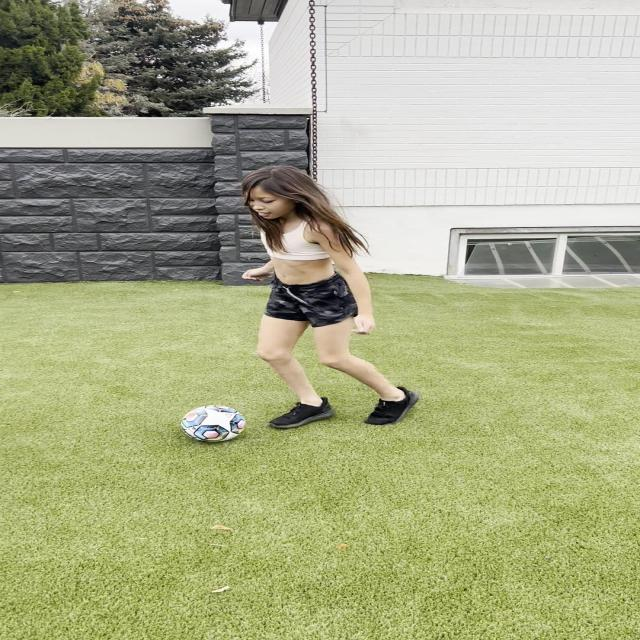Soccer Ball: (181, 405, 245, 442)
